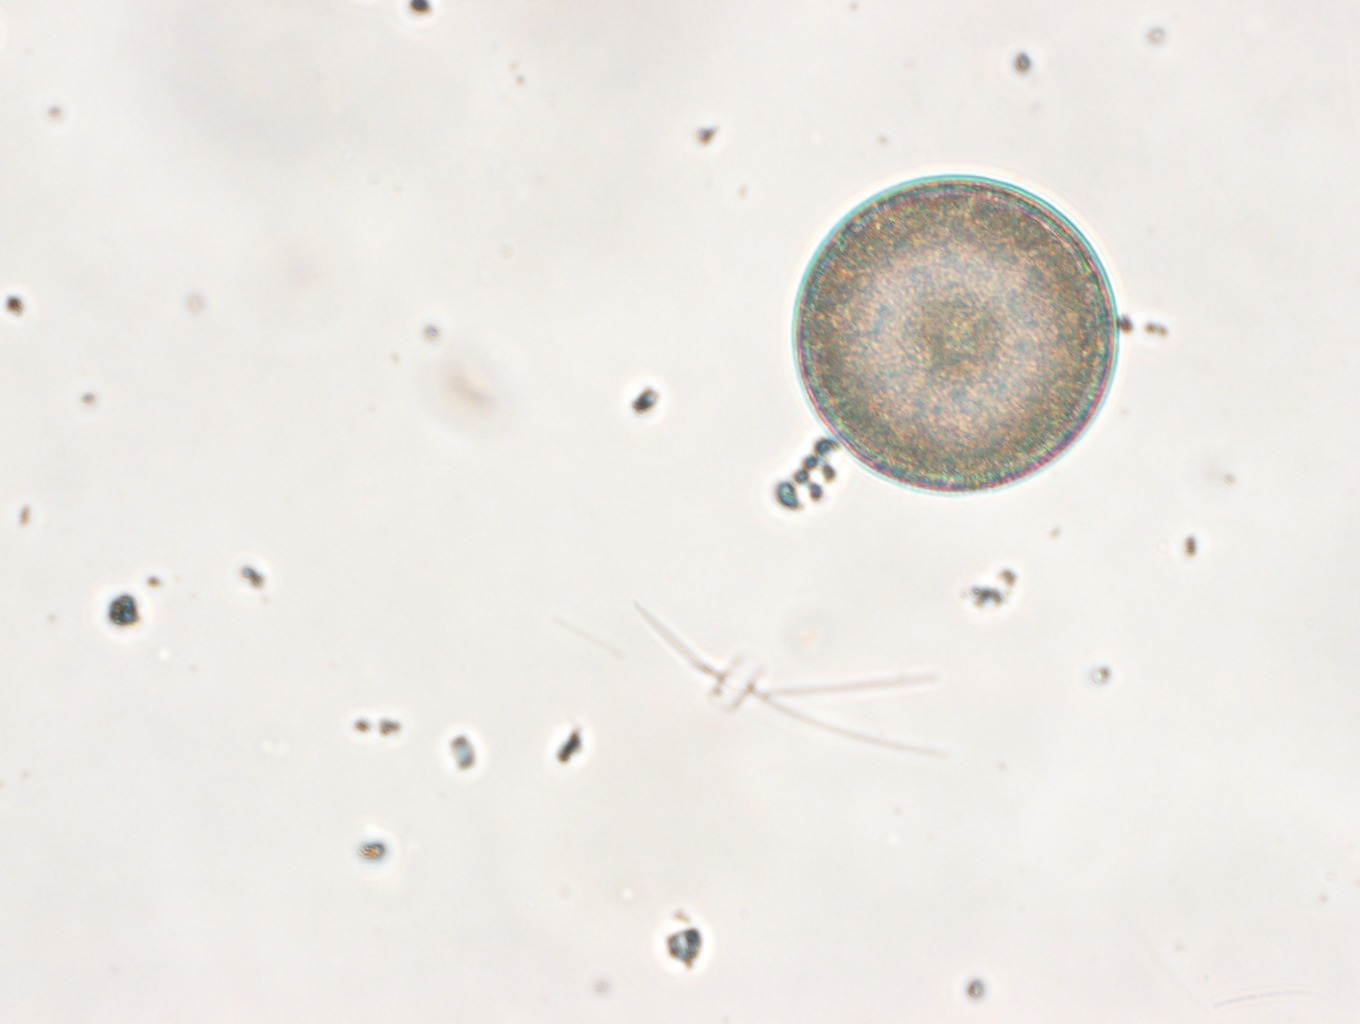coscinodiscus: (794, 162, 1123, 497)
